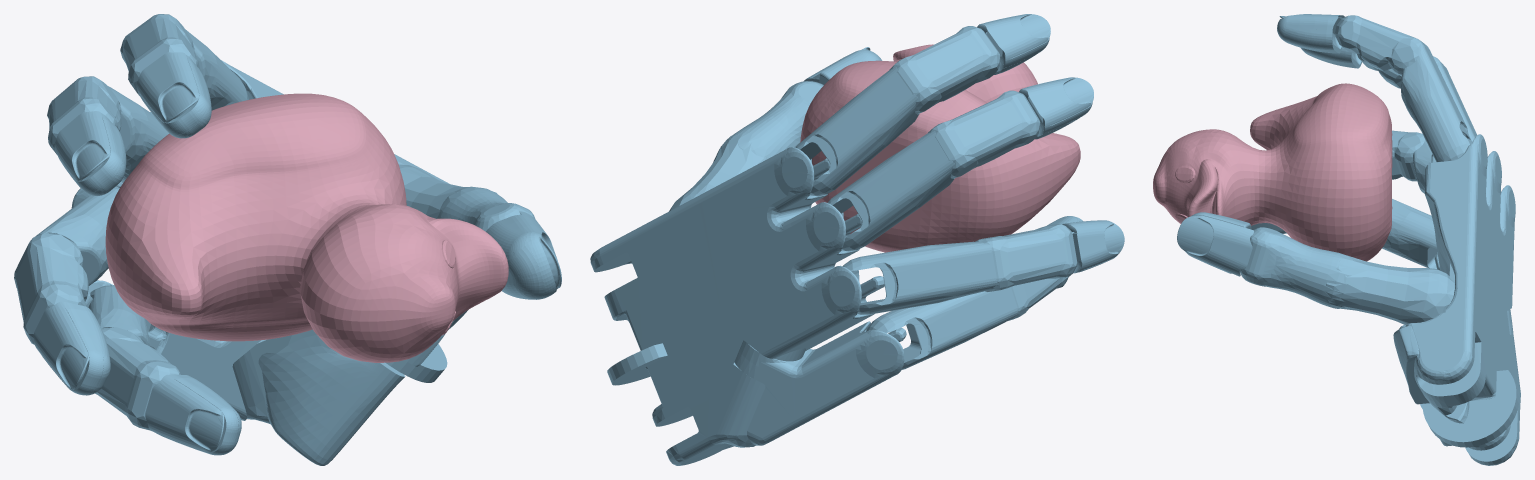
3 renders of one model, left to right at view 1: azimuth 30°, elevation 25°; view 2: azimuth 150°, elevation 25°; view 3: azimuth 270°, elevation 25°, orthographic. The views are drawn at different scales.
Parts seen in each view (by area): view 1: rubber_duck.stl, world; view 2: world, rubber_duck.stl; view 3: world, rubber_duck.stl.
Part boxes in pixels (box(x1,y1,x2,y2)): rubber_duck.stl: box(105, 93, 508, 362); world: box(14, 14, 561, 465); world: box(590, 14, 1124, 465); rubber_duck.stl: box(800, 44, 1080, 252); world: box(1177, 14, 1520, 465); rubber_duck.stl: box(1153, 83, 1392, 261).
Size of the model in its own units: 0.171 by 0.1608 by 0.1475.
